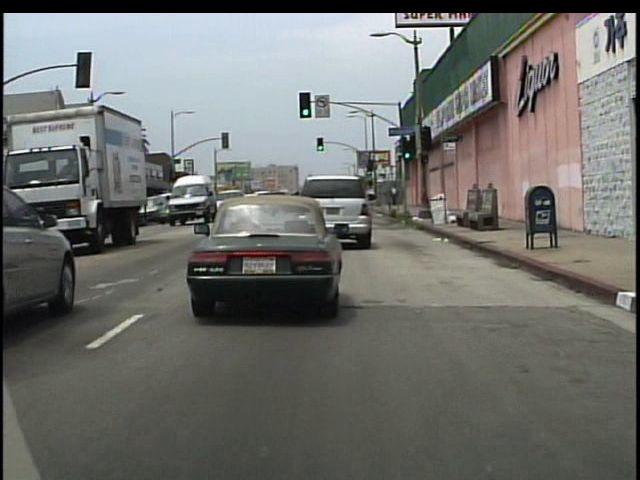person: (391, 184, 401, 206)
